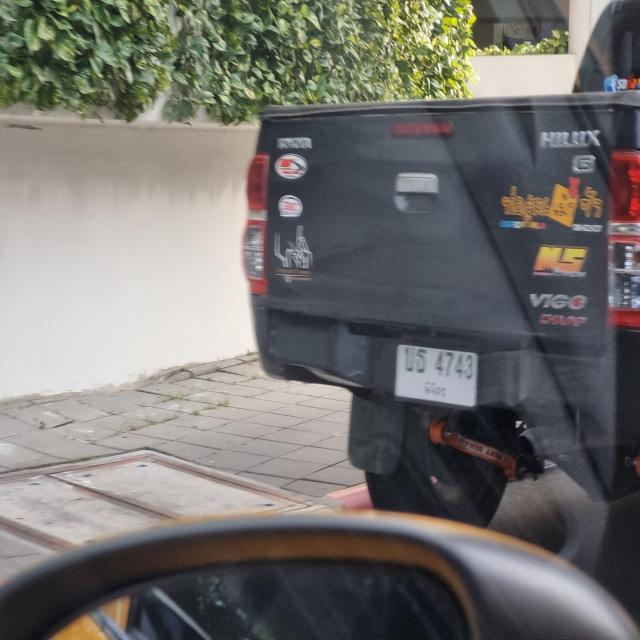license_plate: (392, 336, 483, 413)
